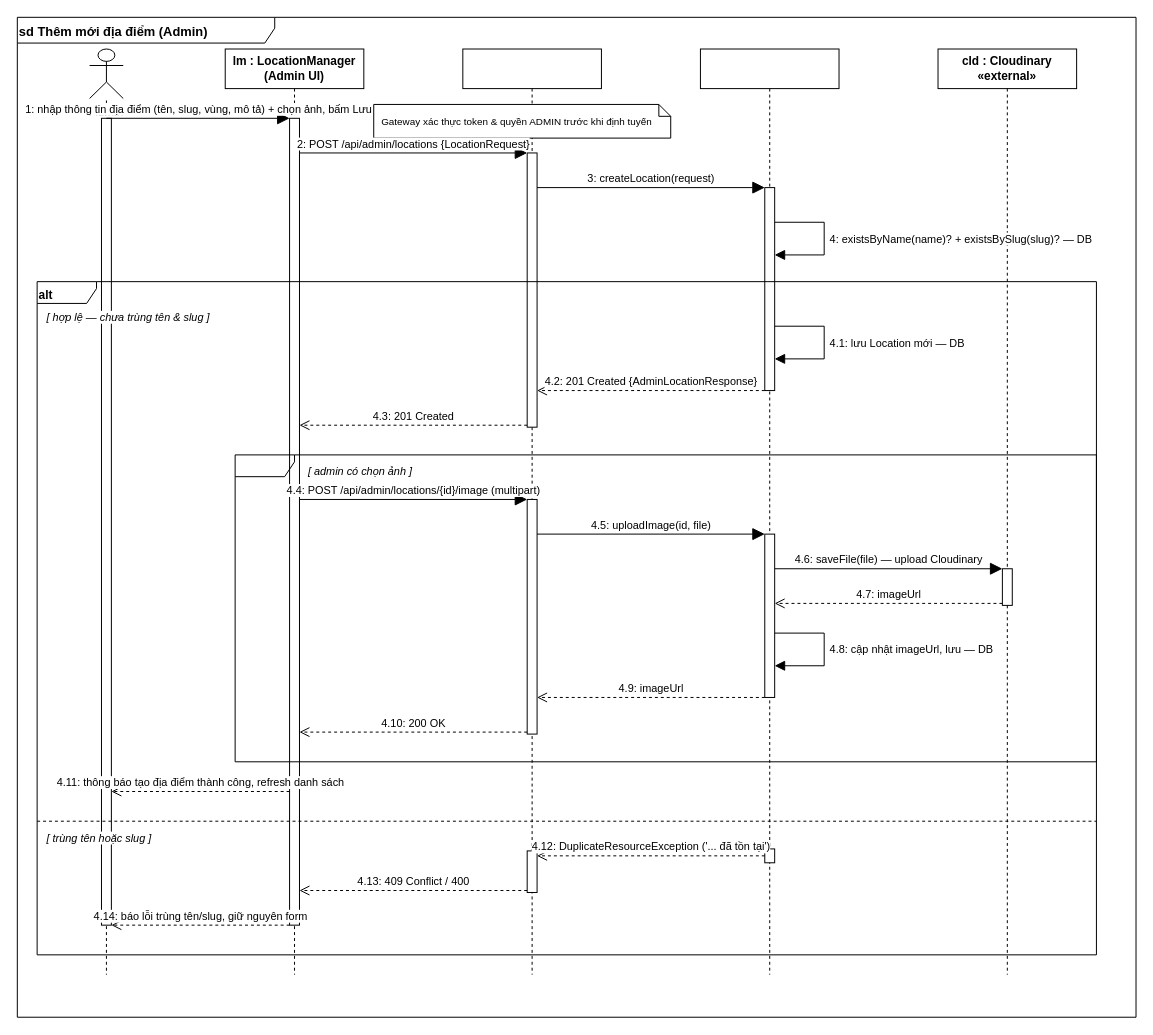
The diagram is 1153 pixels wide and 1035 high, and some of its shapes have lost their labels. The box of each missing label's shape, as (x1, y1, x2, y2) in pixels:
gw : ApiGateway: (462, 48, 601, 975)
opt: (234, 454, 1096, 762)
tc : TourCatalogService: (699, 48, 839, 975)
